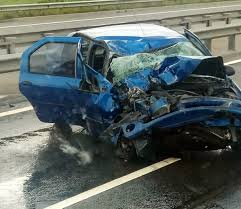car: (49, 21, 232, 166)
